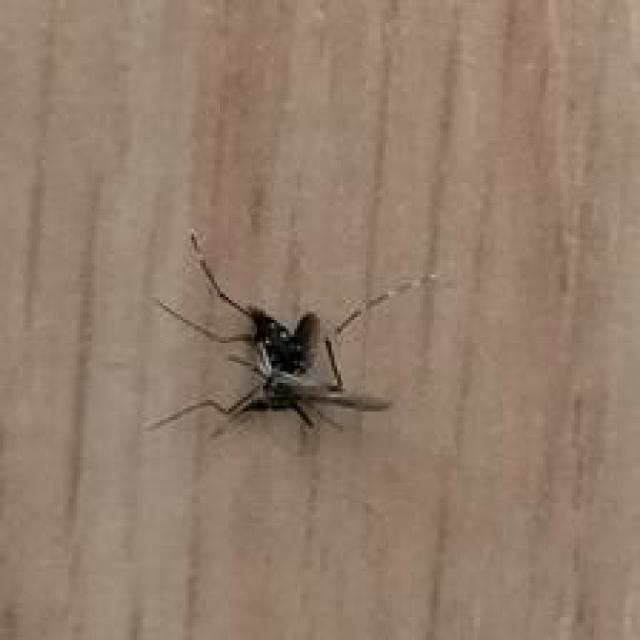Aedes albopictus: (144, 228, 439, 448)
